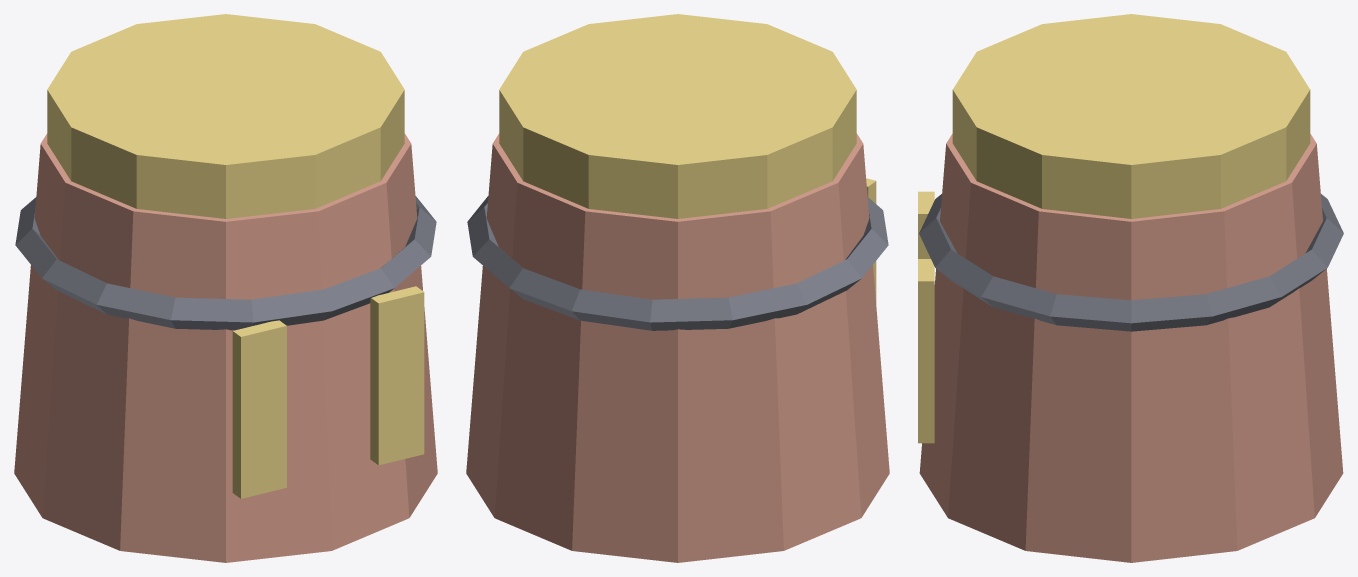
The model's file is objeto_cartucho.glb.
The picture shows the model from 3 angles, left to right: view 1: azimuth 30°, elevation 25°; view 2: azimuth 150°, elevation 25°; view 3: azimuth 270°, elevation 25°; orthographic projection.
Parts seen in each view (by area): view 1: objeto_cartucho; view 2: objeto_cartucho; view 3: objeto_cartucho.
Boxes of the visible parts, x1,y1,x2,y2 form: objeto_cartucho: (14, 14, 437, 562); objeto_cartucho: (466, 14, 889, 562); objeto_cartucho: (918, 14, 1343, 562).
Bounding box in the file's own units: 0.642 × 0.64 × 0.6435.
